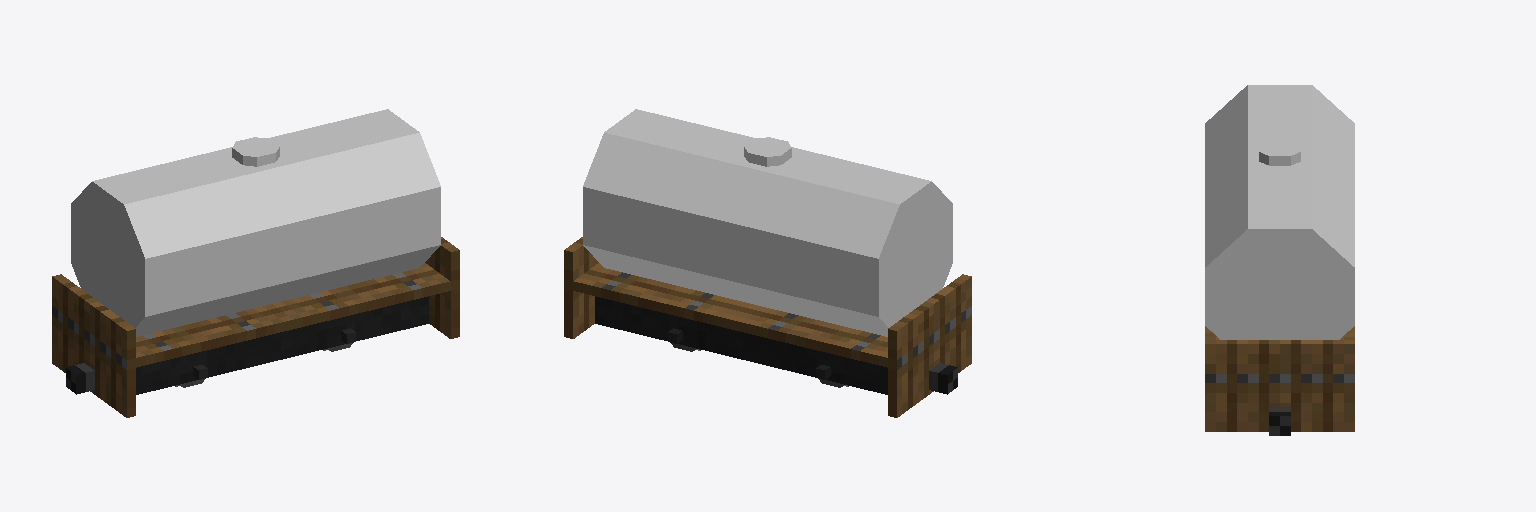
3 renders of one model, left to right at view 1: azimuth 30°, elevation 25°; view 2: azimuth 150°, elevation 25°; view 3: azimuth 270°, elevation 25°, orthographic.
Parts seen in each view (by area): view 1: FRAME.003_Cube, FRAME_Cube.007, FRAME.couple_Cube.016; view 2: FRAME.003_Cube, FRAME_Cube.007, FRAME.couple_Cube.016; view 3: FRAME.003_Cube, FRAME_Cube.007, FRAME.couple.001_Cube.005.
Part boxes in pixels (x1,y1,x2,y2): FRAME.003_Cube: (71, 109, 440, 336); FRAME_Cube.007: (52, 237, 459, 417); FRAME.couple_Cube.016: (66, 363, 94, 394); FRAME.003_Cube: (583, 109, 952, 336); FRAME_Cube.007: (564, 237, 971, 417); FRAME.couple_Cube.016: (929, 363, 957, 394); FRAME.003_Cube: (1205, 85, 1354, 339); FRAME_Cube.007: (1205, 326, 1354, 431); FRAME.couple.001_Cube.005: (1269, 407, 1290, 435).
Size of the model in its own units: 2.5 by 1.41 by 0.875.
4 materials, 3 textured.